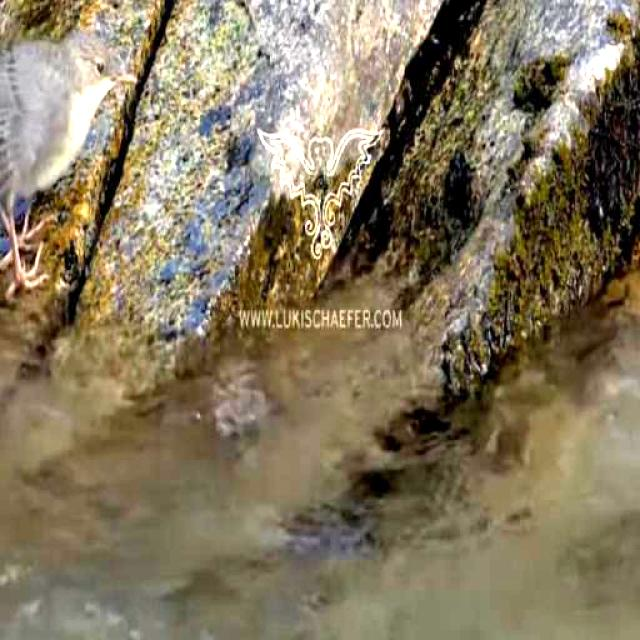airplane: (0, 15, 142, 305)
